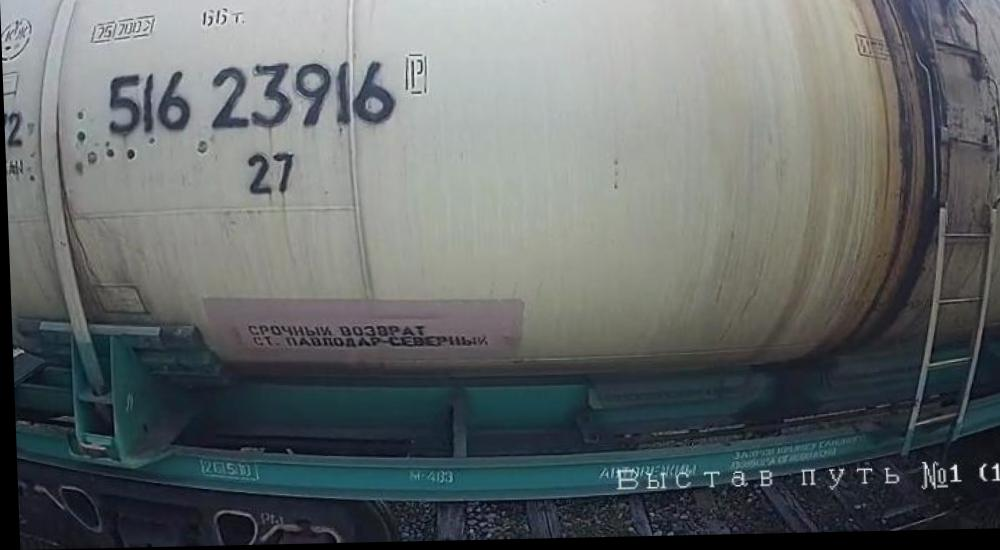Wagon-number: (102, 58, 400, 140)
